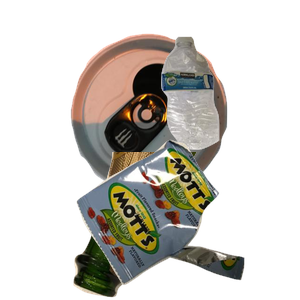glass: (71, 152, 260, 300)
metal: (68, 31, 288, 211)
plastic: (159, 34, 300, 176)
trash: (74, 137, 300, 300)
